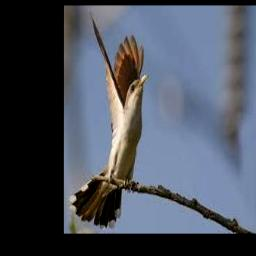Cuckoo: (70, 14, 149, 227)
